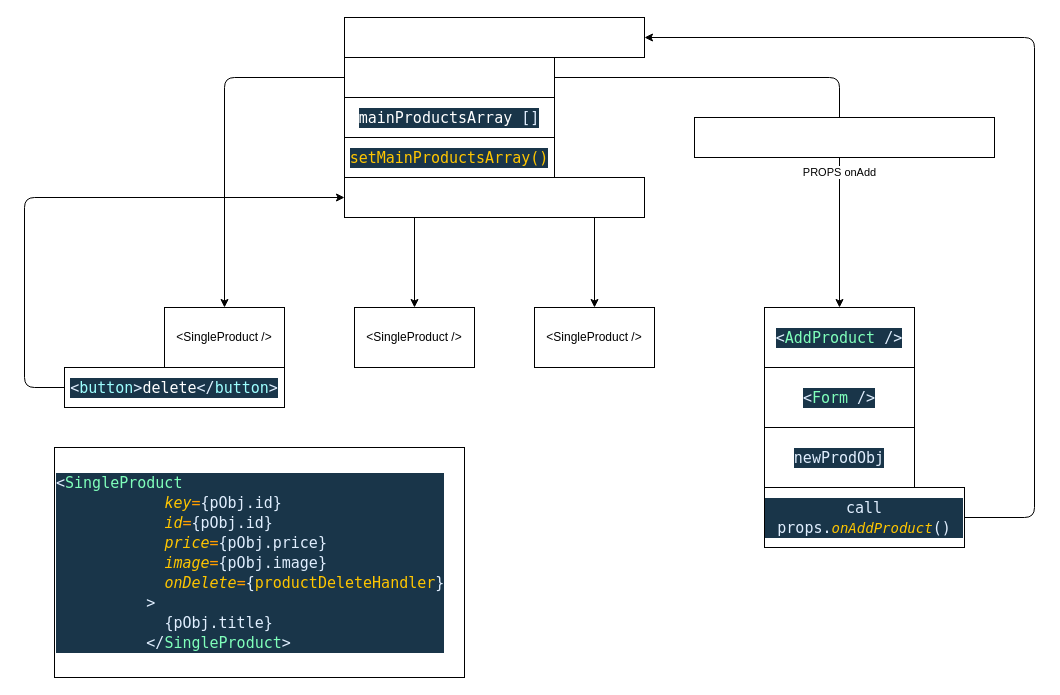
The diagram is 1060 pixels wide and 695 high, and some of its shapes have lost their labels. Each missing label, with the box of its shape:
<Products />: (344, 56, 554, 98)
onAddProduct = { productAddHandler }: (694, 116, 994, 158)
productAddHandler(newProdObj): (344, 16, 644, 58)
productDeleteHandler(idToDelete): (344, 176, 644, 218)
